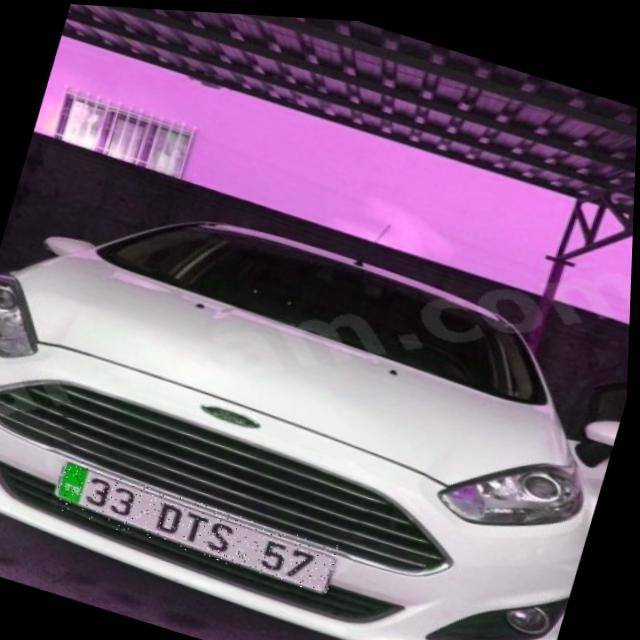license_plate: (50, 458, 347, 591)
